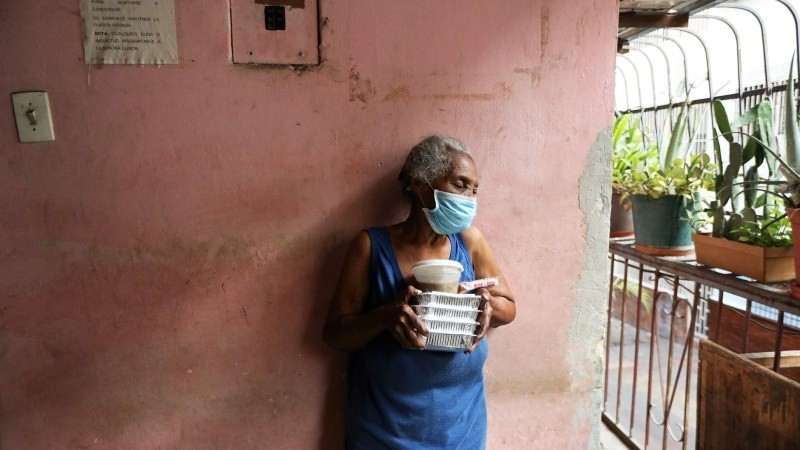face_with_mask: (403, 133, 480, 242)
